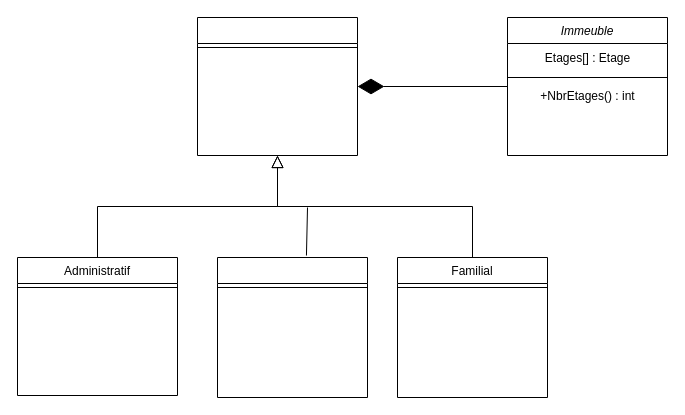
Some shapes in this 685 by 415 pixel diagram are drawn without their labels. The shapes that lost their labels are listed below. From the top down, each one's centre as x and y in pixels, then its label:
At point 277,86: "Etage".
At point 292,327: "Commercial".
